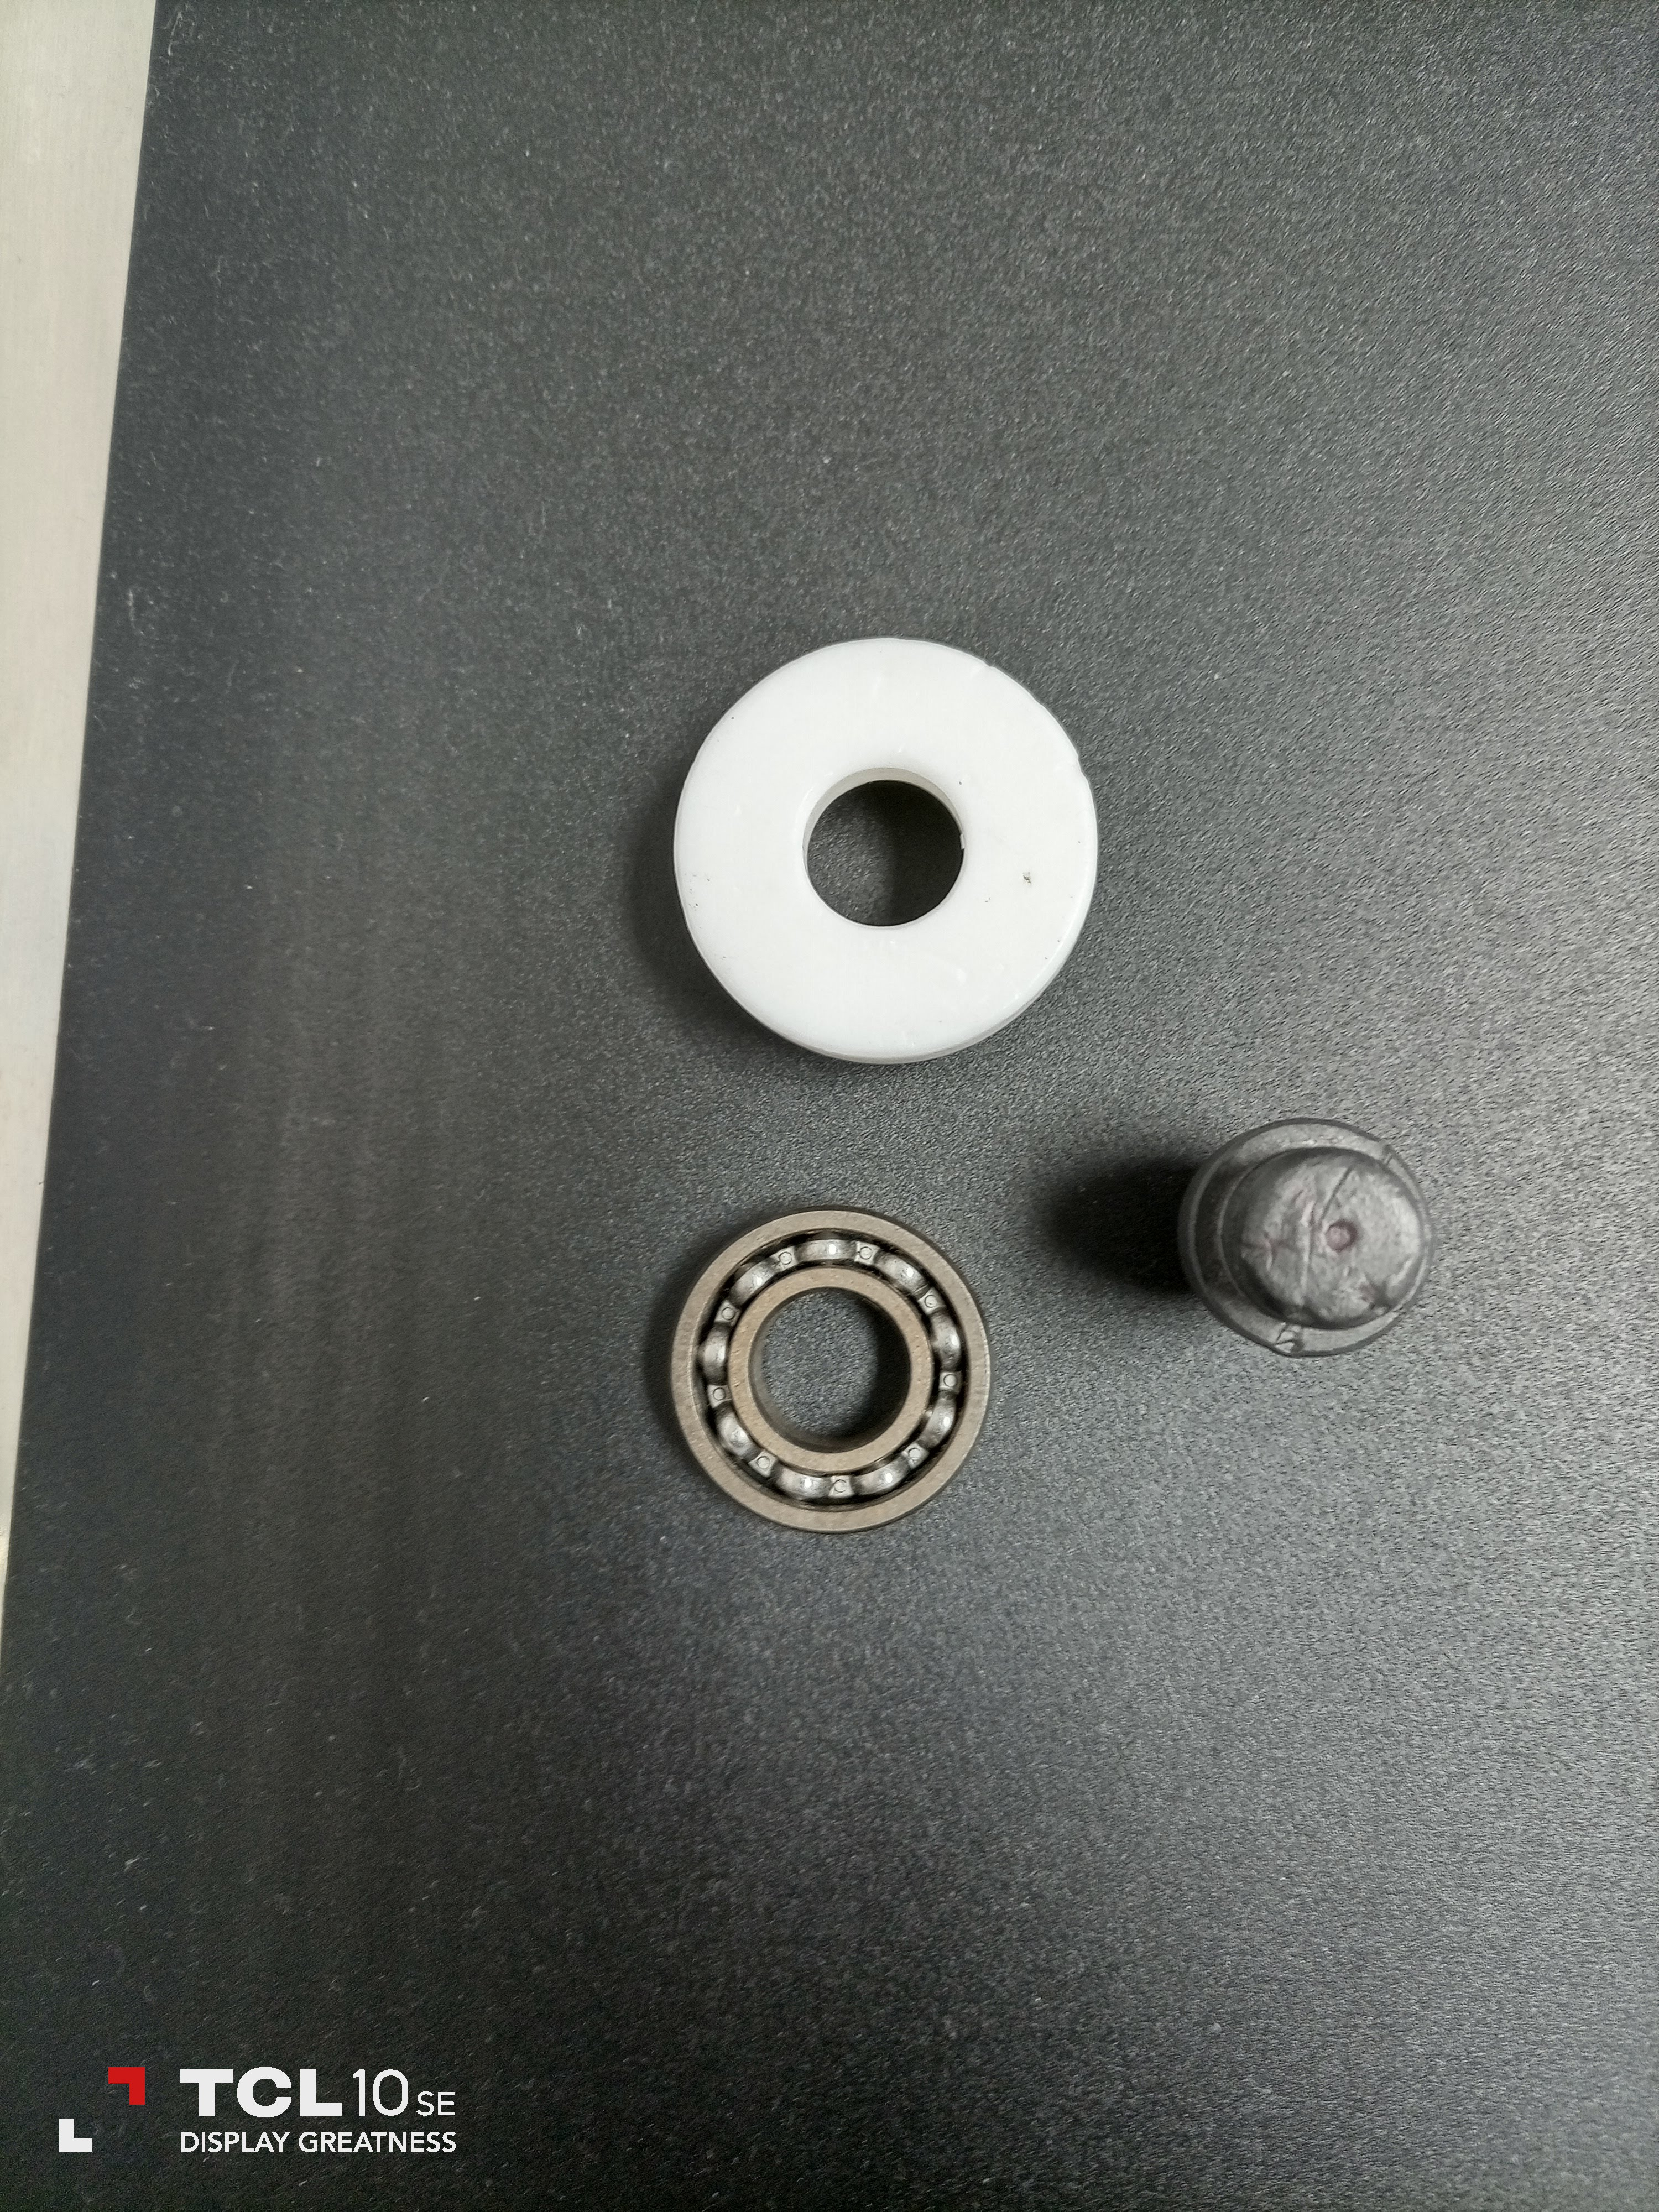Ardatza: (1180, 1109, 1438, 1379)
Roda: (660, 1198, 1007, 1541)
Tapa: (655, 624, 1110, 1062)
